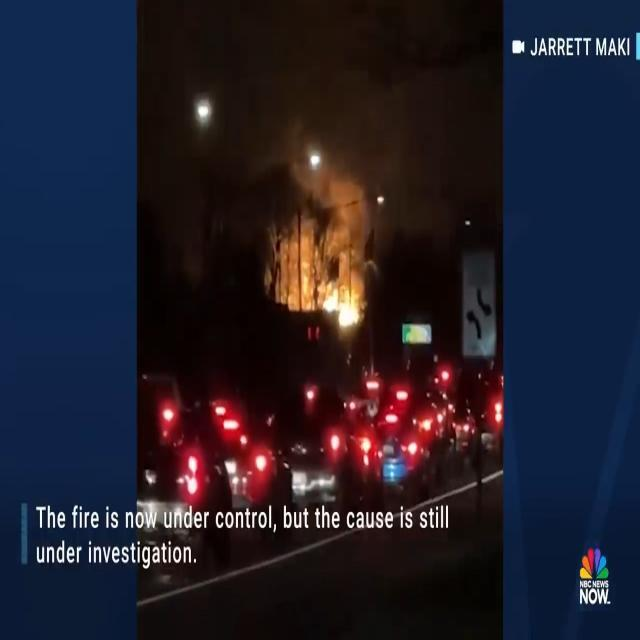fire: (314, 282, 373, 326)
